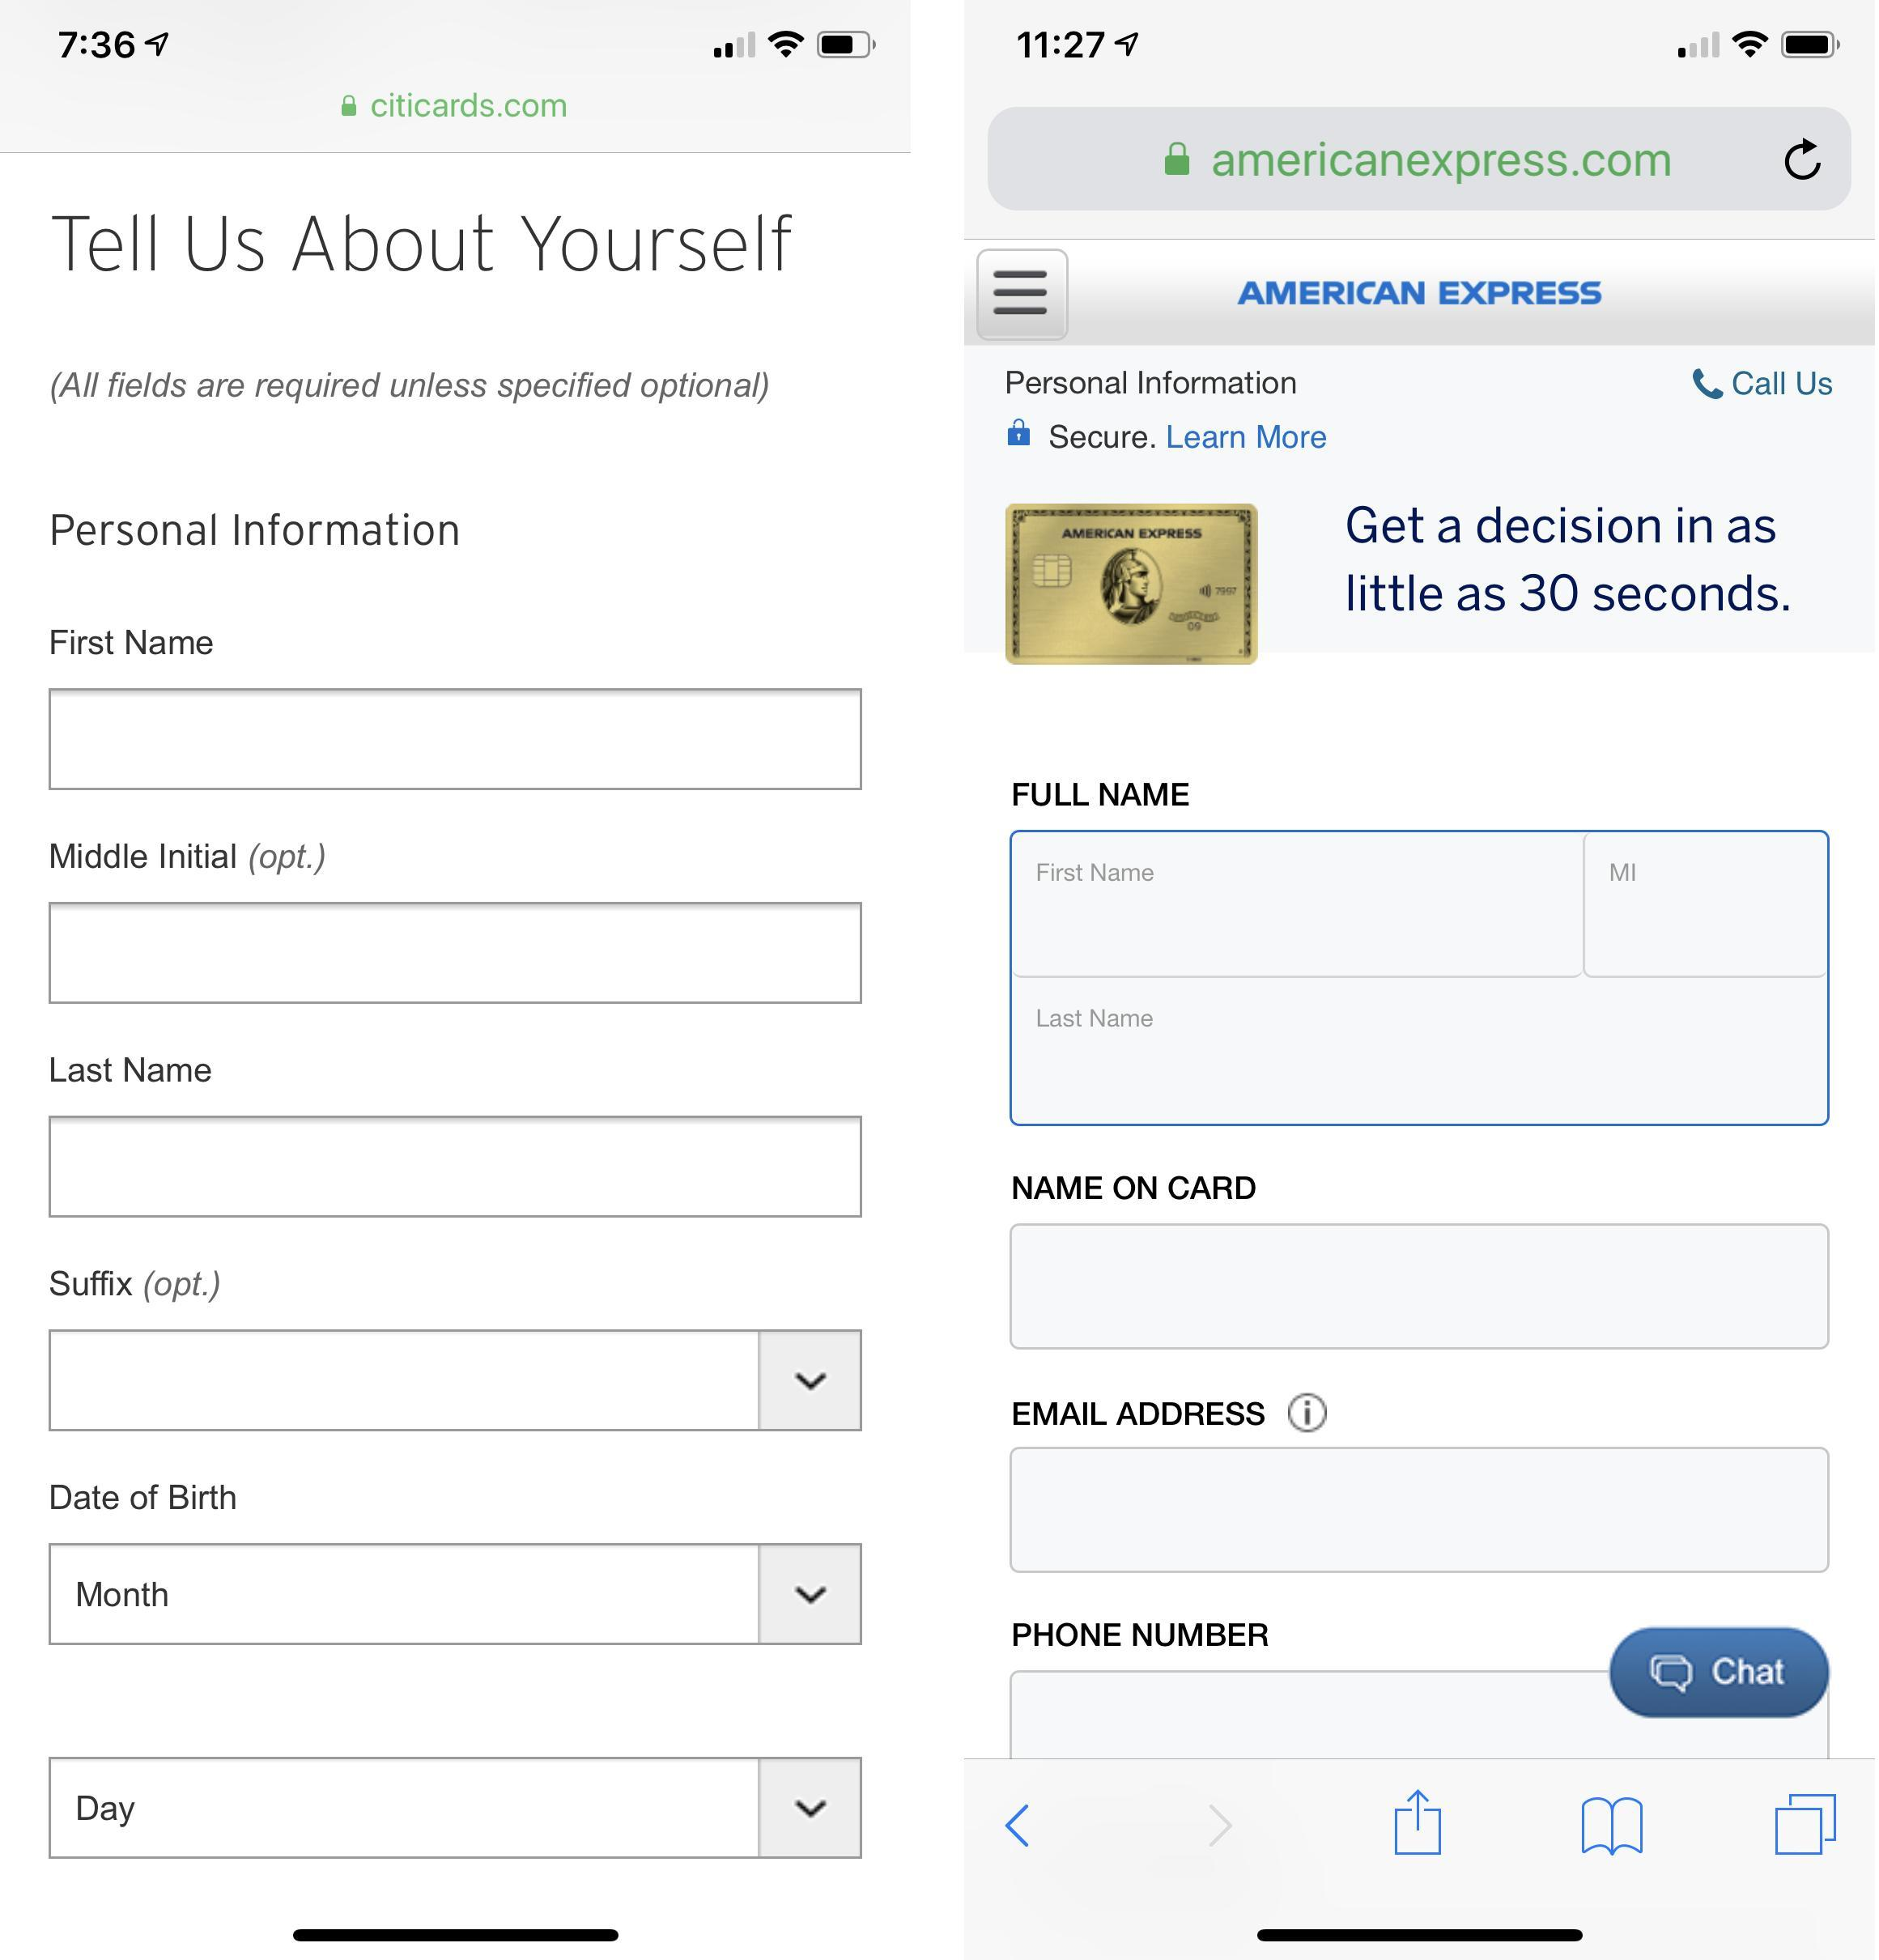button: (1608, 1624, 1828, 1722)
dropdown: (52, 1759, 866, 1860), (52, 1545, 859, 1645), (49, 1334, 866, 1430)
icon: (980, 248, 1069, 340), (1379, 1776, 1461, 1873), (1566, 1790, 1652, 1874), (1774, 1787, 1849, 1869)
input: (1009, 980, 1830, 1124), (1011, 1442, 1834, 1573), (1009, 1223, 1832, 1351), (45, 686, 866, 793), (1011, 831, 1585, 980), (49, 1115, 866, 1218), (51, 901, 863, 1004), (1587, 833, 1828, 977)
label: (54, 504, 483, 579), (999, 1383, 1347, 1437), (35, 821, 338, 879), (1009, 1608, 1281, 1655), (42, 1262, 247, 1321), (1009, 756, 1197, 821), (52, 1050, 238, 1109), (33, 616, 226, 667), (1009, 1164, 1261, 1202), (33, 1481, 252, 1519)
